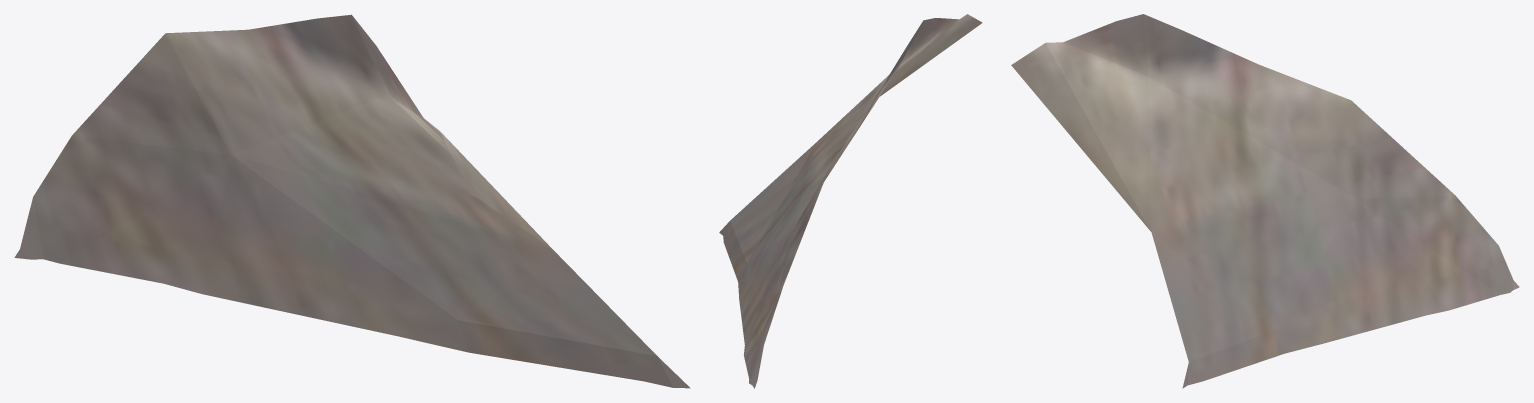
The model's file is Tile__005__002_L21_0002000.glb.
3 renders of one model, left to right at view 1: azimuth 30°, elevation 25°; view 2: azimuth 150°, elevation 25°; view 3: azimuth 270°, elevation 25°, orthographic. The views are drawn at different scales.
Parts seen in each view (by area): view 1: root; view 2: root; view 3: root.
Boxes of the visible parts, left/top/right/bottom form: root: left=14, top=14, right=690, bottom=388; root: left=719, top=14, right=982, bottom=388; root: left=1011, top=14, right=1519, bottom=388.
Bounding box in the file's own units: 4.9 × 6.15 × 10.37.
Materials: 1 (1 with a texture image).
